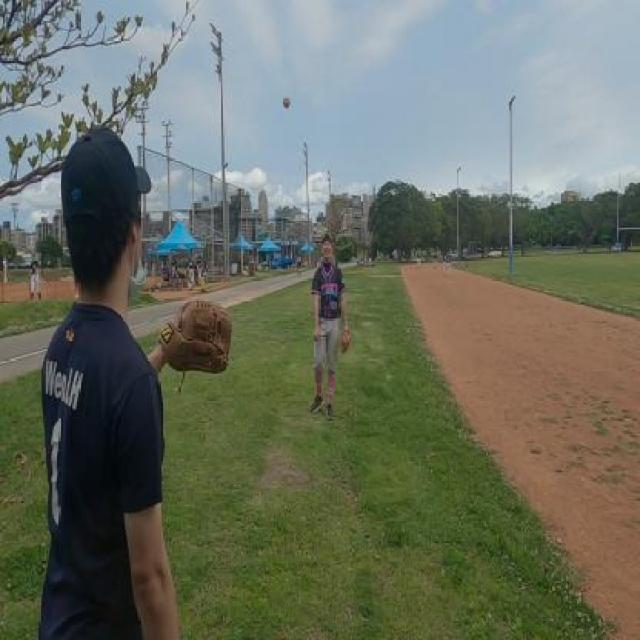baseball: (282, 96, 292, 109)
